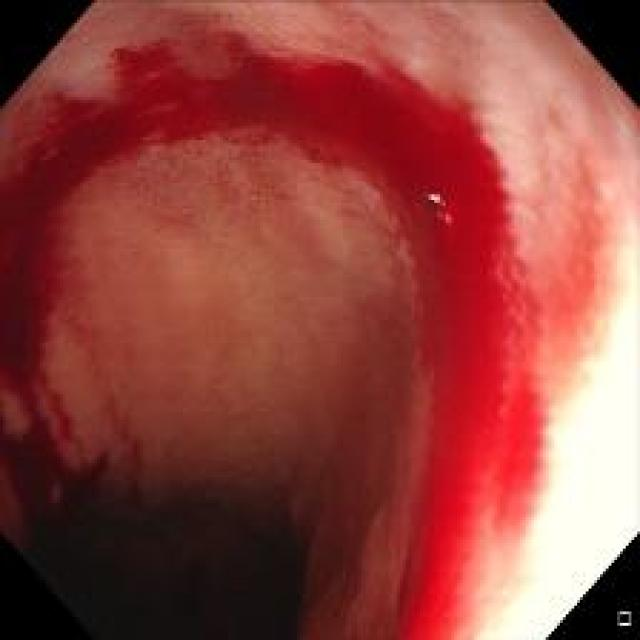blood: (355, 159, 555, 630), (68, 50, 476, 201), (2, 72, 126, 340)
contrast: (10, 438, 348, 634)
saturation: (500, 392, 635, 600), (576, 228, 635, 392), (465, 591, 558, 638)
specularity: (428, 192, 438, 202)
